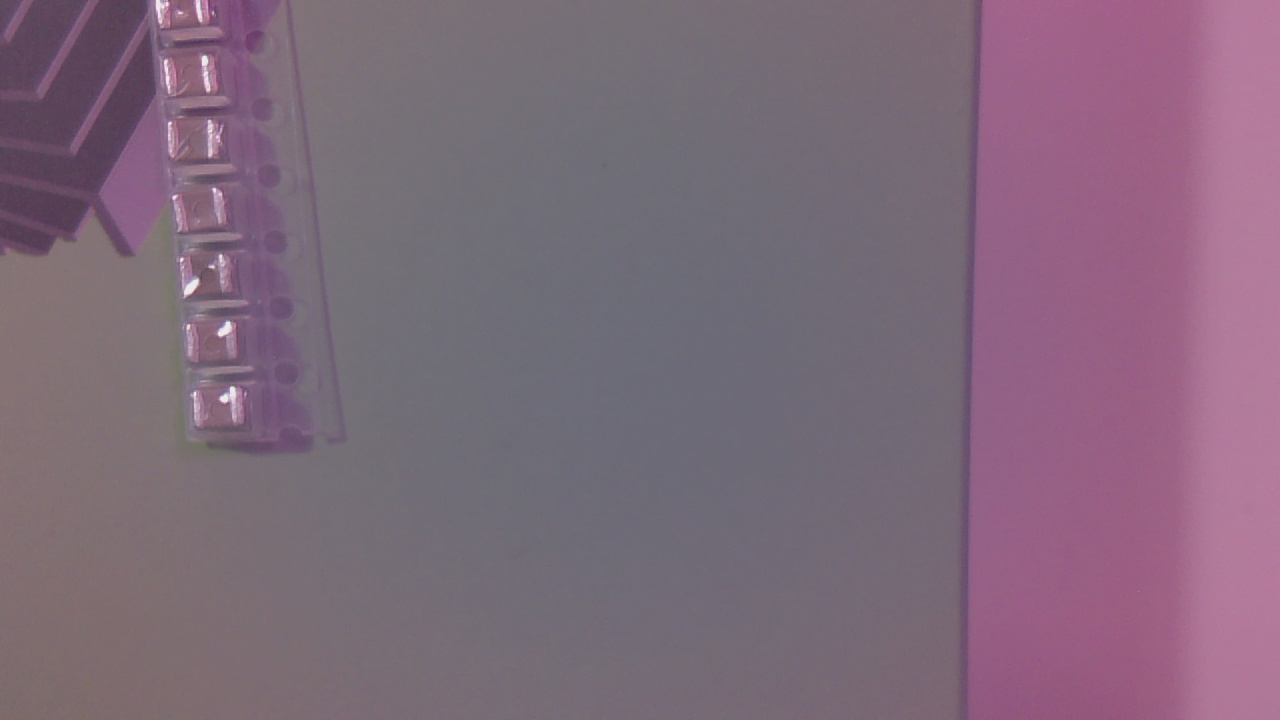Condensator: (184, 254, 240, 305), (172, 120, 229, 168), (178, 187, 229, 238), (188, 323, 242, 369), (169, 58, 226, 100), (199, 387, 247, 434), (159, 5, 217, 30)
